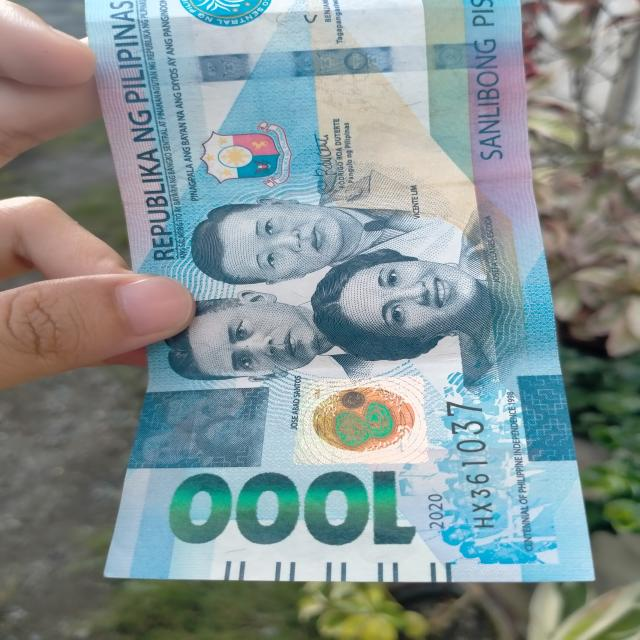concealed_value: (125, 388, 269, 468)
optically_variable_device: (292, 375, 430, 465)
security_thread: (89, 39, 528, 89)
serial_number: (438, 388, 507, 531)
